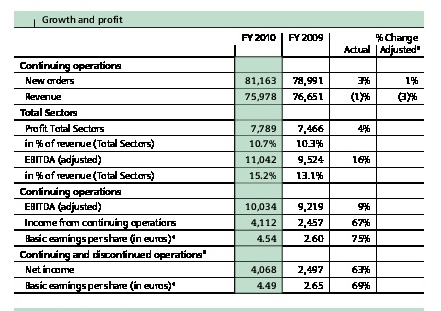table: (0, 0, 441, 311)
